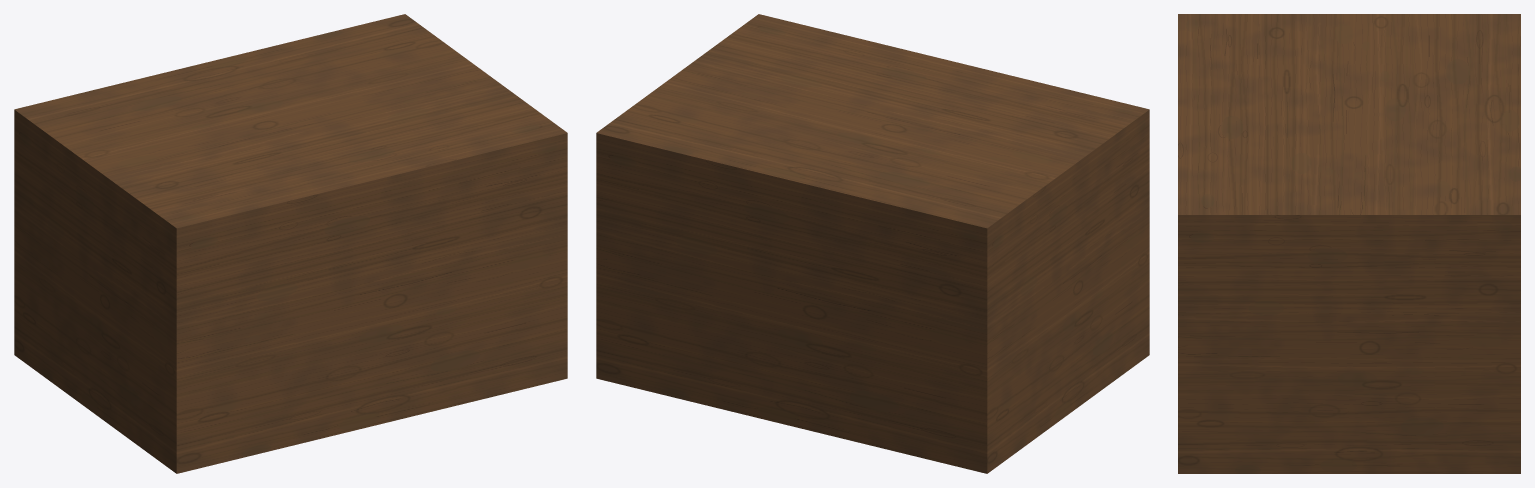
File: pr-020_shared_carry_heavy_box__placed.obj
The picture shows the model from 3 angles, left to right: view 1: azimuth 30°, elevation 25°; view 2: azimuth 150°, elevation 25°; view 3: azimuth 270°, elevation 25°; orthographic projection. The views are drawn at different scales.
Parts seen in each view (by area): view 1: pr-020_shared_carry_heavy_box__placed; view 2: pr-020_shared_carry_heavy_box__placed; view 3: pr-020_shared_carry_heavy_box__placed.
Part boxes in pixels (x1,y1,x2,y2): pr-020_shared_carry_heavy_box__placed: (14,14,567,473); pr-020_shared_carry_heavy_box__placed: (596,14,1149,473); pr-020_shared_carry_heavy_box__placed: (1178,14,1520,473).
Size of the model in its own units: 1.25 by 0.75 by 0.9.
2 materials, 2 textured.
